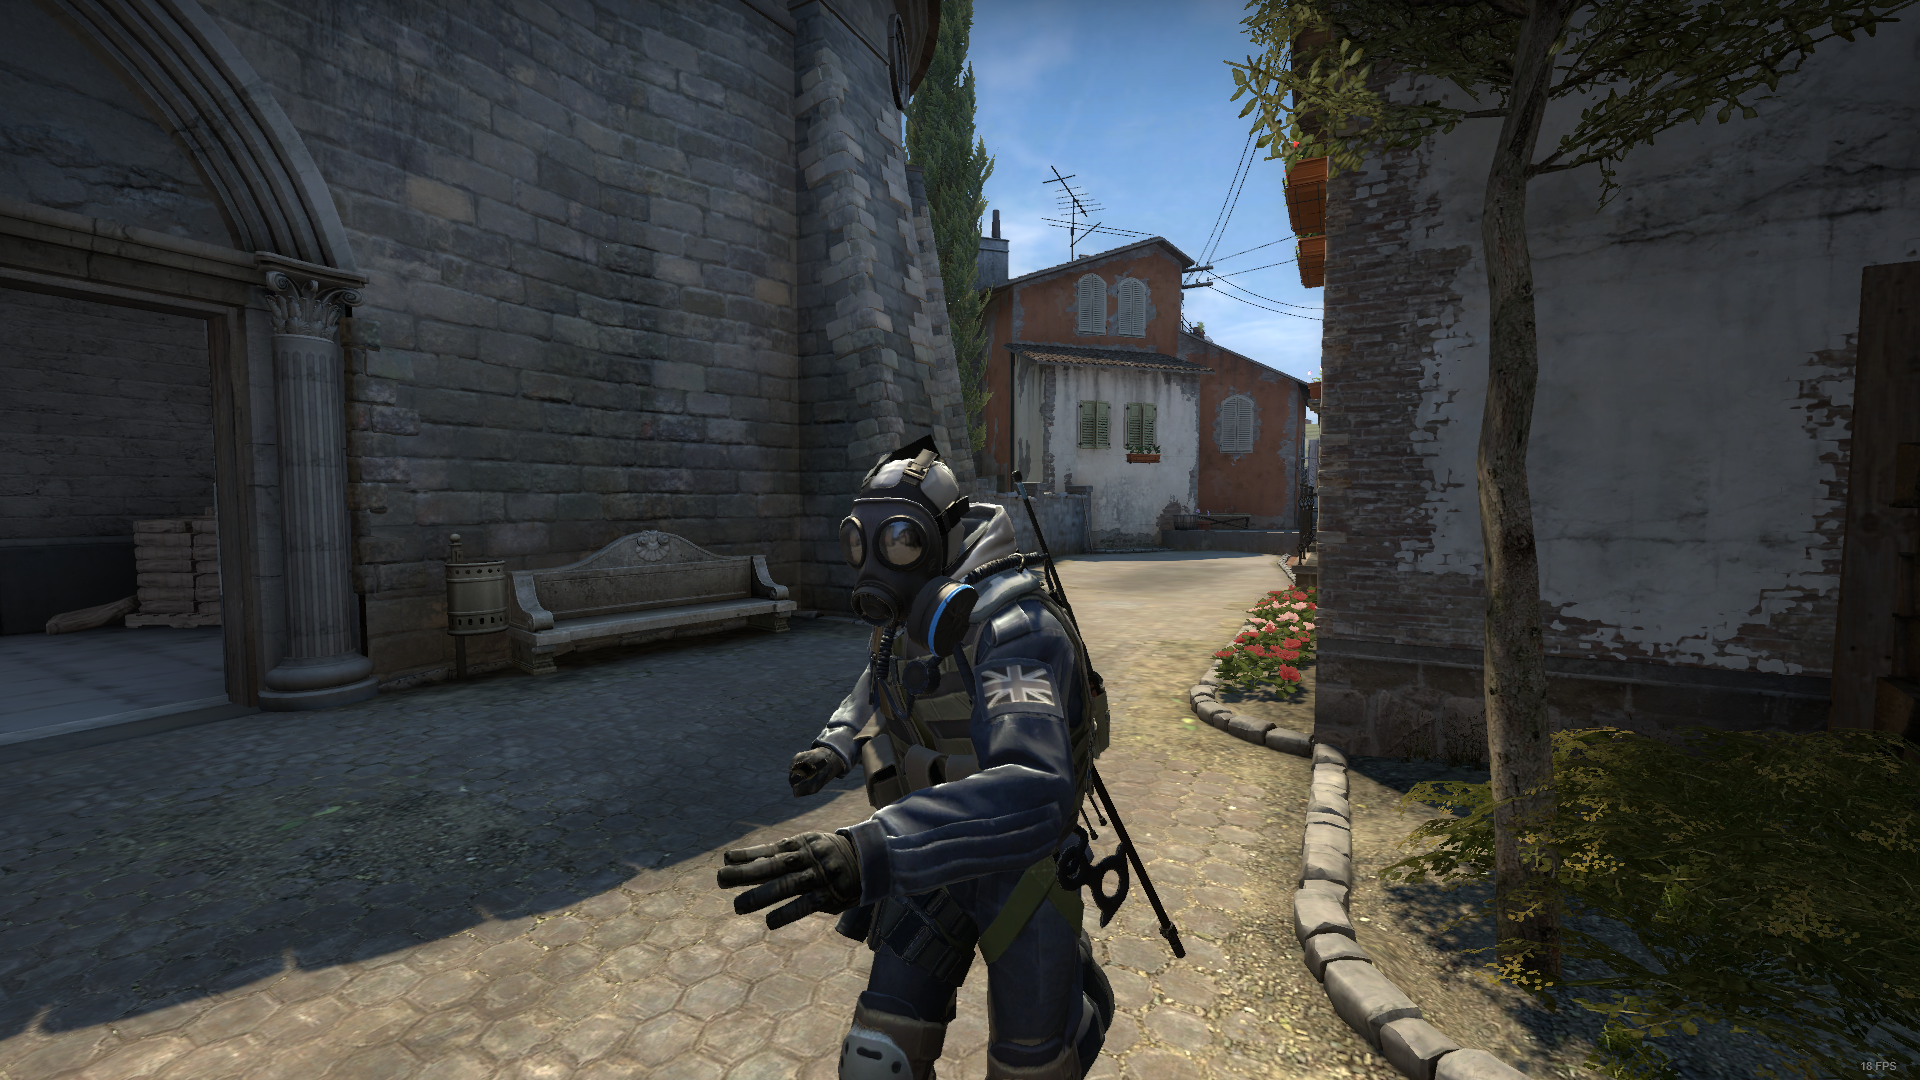ct: (721, 448, 1109, 1080)
